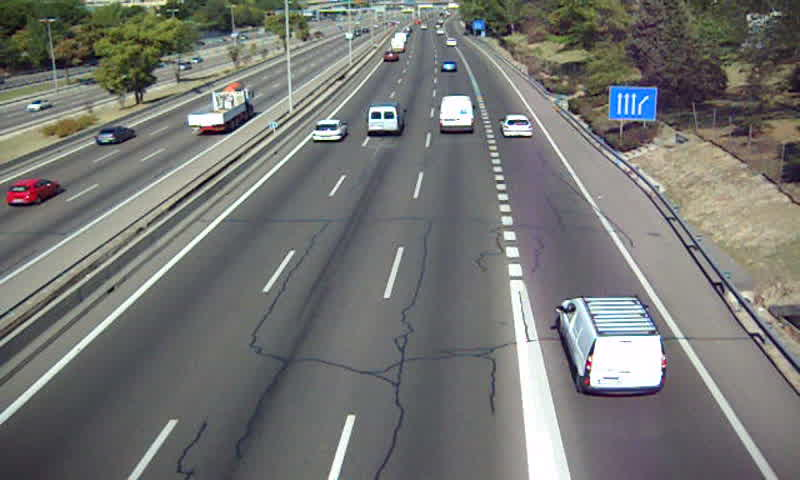car: (312, 118, 348, 143), (500, 114, 533, 138), (440, 60, 458, 74)
van: (558, 297, 668, 394), (366, 100, 407, 136), (439, 95, 474, 132)
